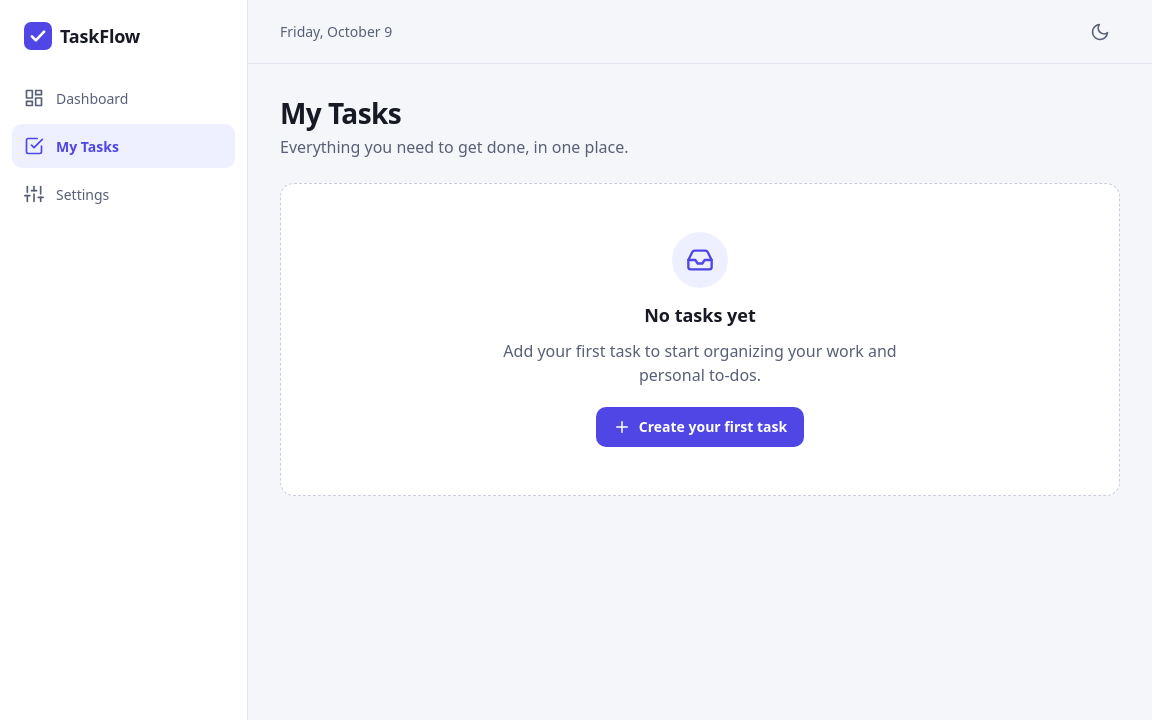
Test: no false success after failed writes › warns when a new task could not be saved, and the storage alert explains why
Click the button "Create your first task": (700, 426) [596,406,804,446]
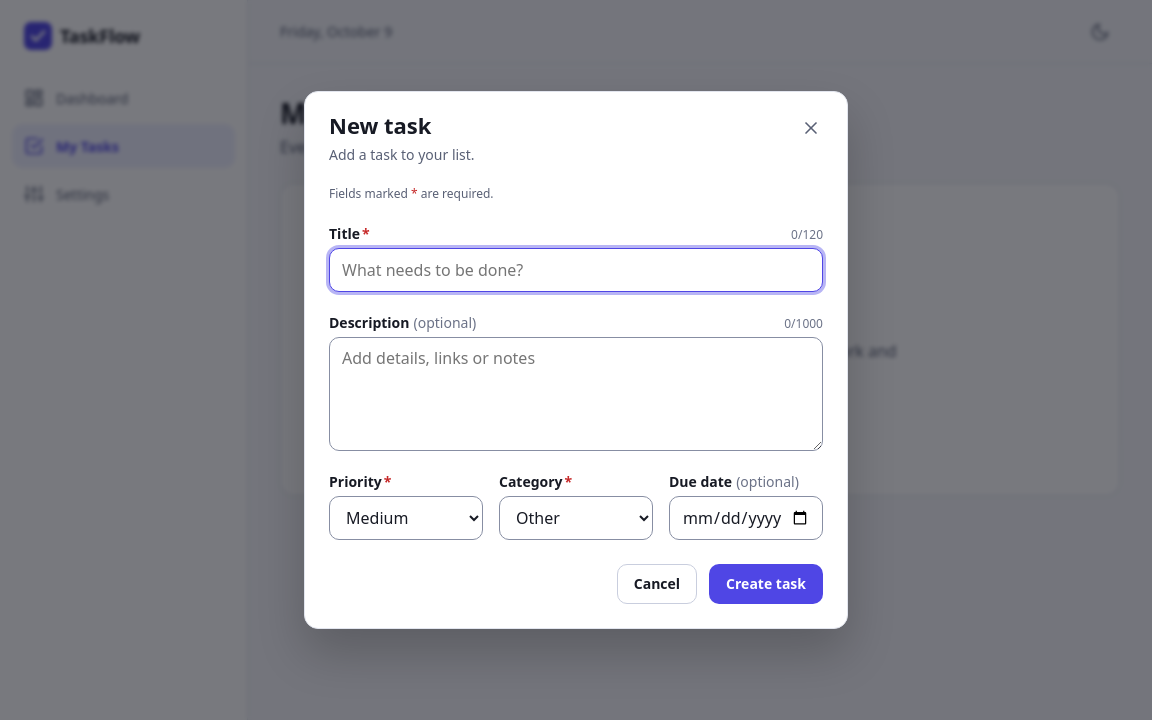
In the field labelled "Title*": (576, 270) [329,248,823,292], type "Unsaved"
Then press Enter
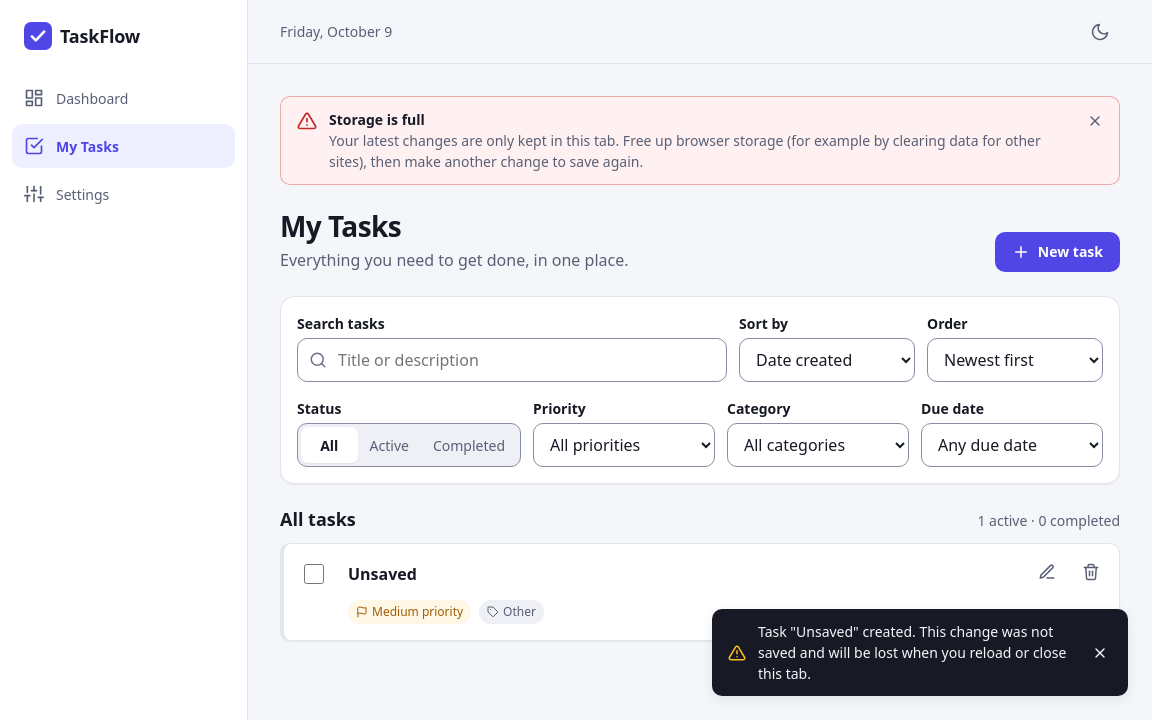
Now the message "Storage is full" is shown, box [280,96,1120,185]
Now the checkbox labelled "Unsaved" is shown, box [304,564,324,584]
